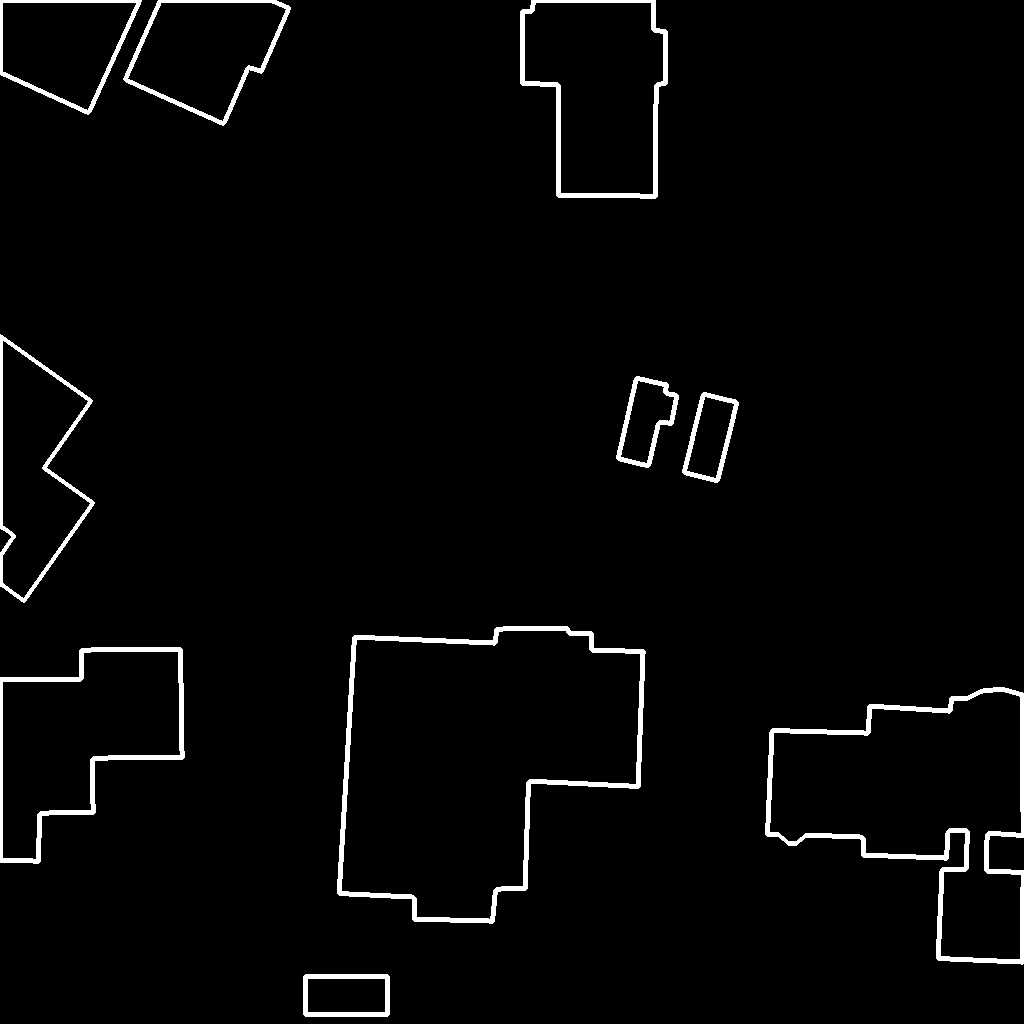building: (339, 628, 644, 922), (767, 689, 1024, 963), (0, 649, 183, 862), (522, 0, 666, 197), (0, 336, 94, 602), (125, 0, 290, 125), (0, 0, 141, 114), (618, 378, 678, 467), (684, 394, 738, 482), (305, 976, 389, 1015)
